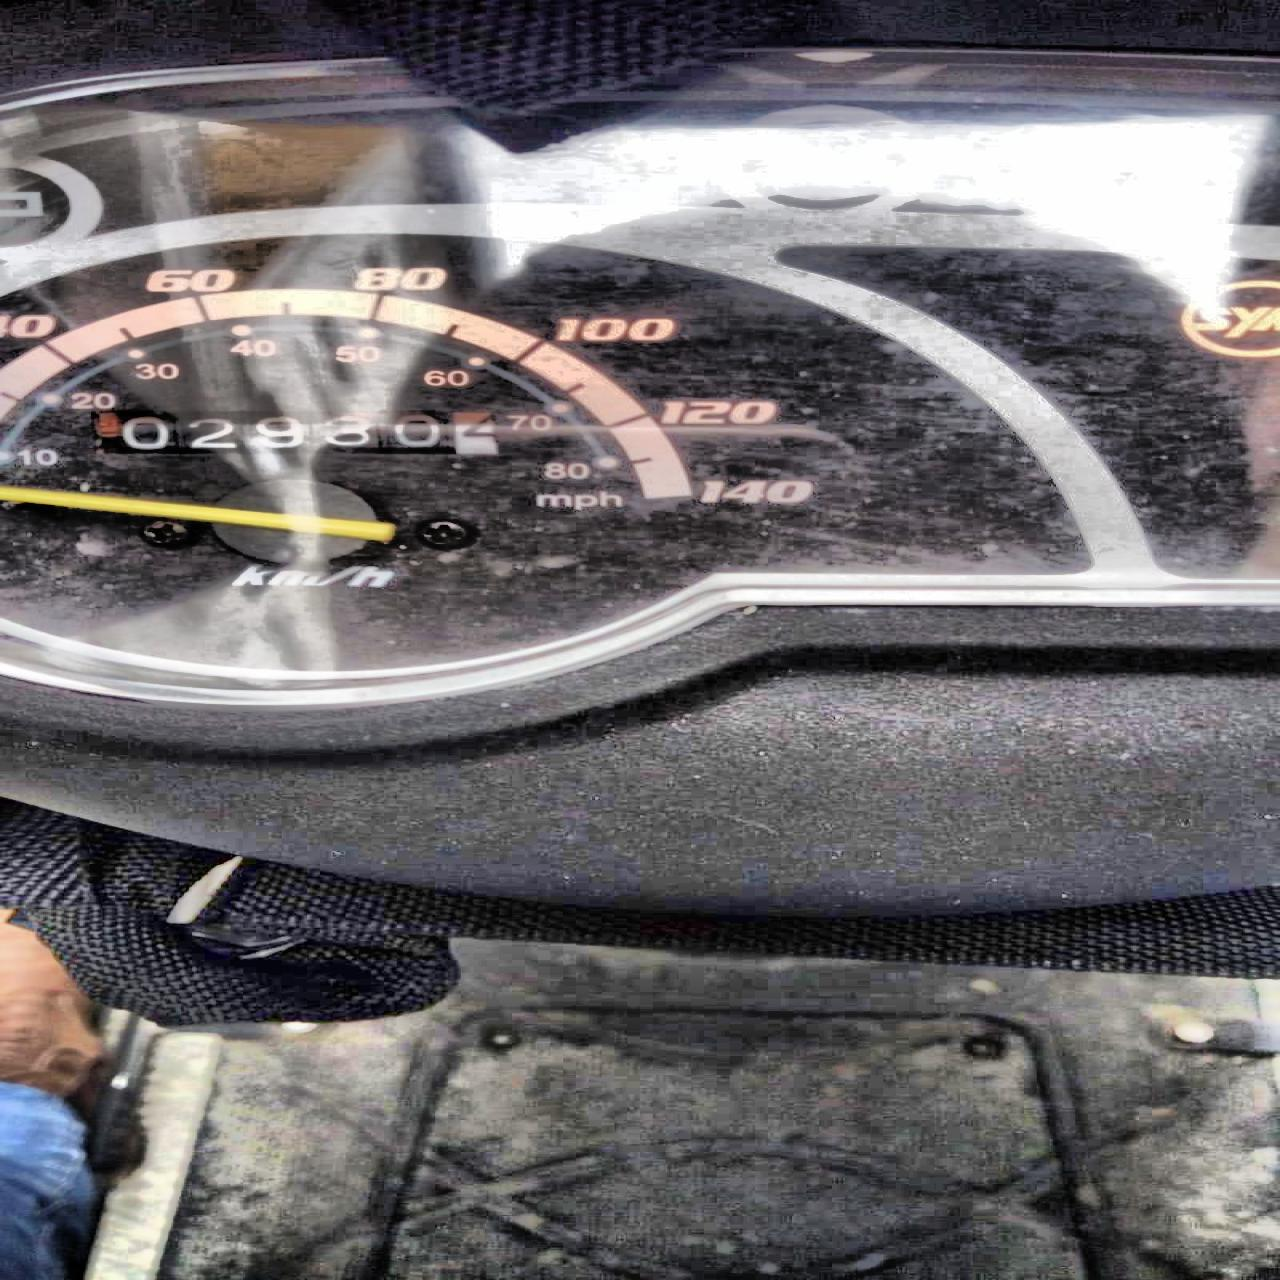0: (118, 414, 172, 449), (387, 413, 442, 447)
2: (185, 414, 238, 449)
3: (320, 414, 374, 449)
4: (463, 411, 503, 442)
9: (253, 415, 307, 449)
odometer: (83, 408, 505, 458)
